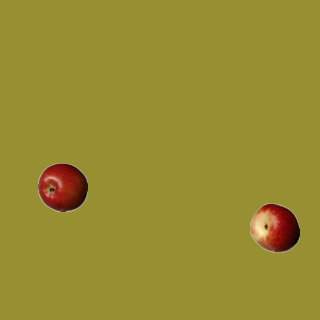Apple Braeburn: (37, 162, 87, 212)
Nectarine: (249, 202, 299, 252)
